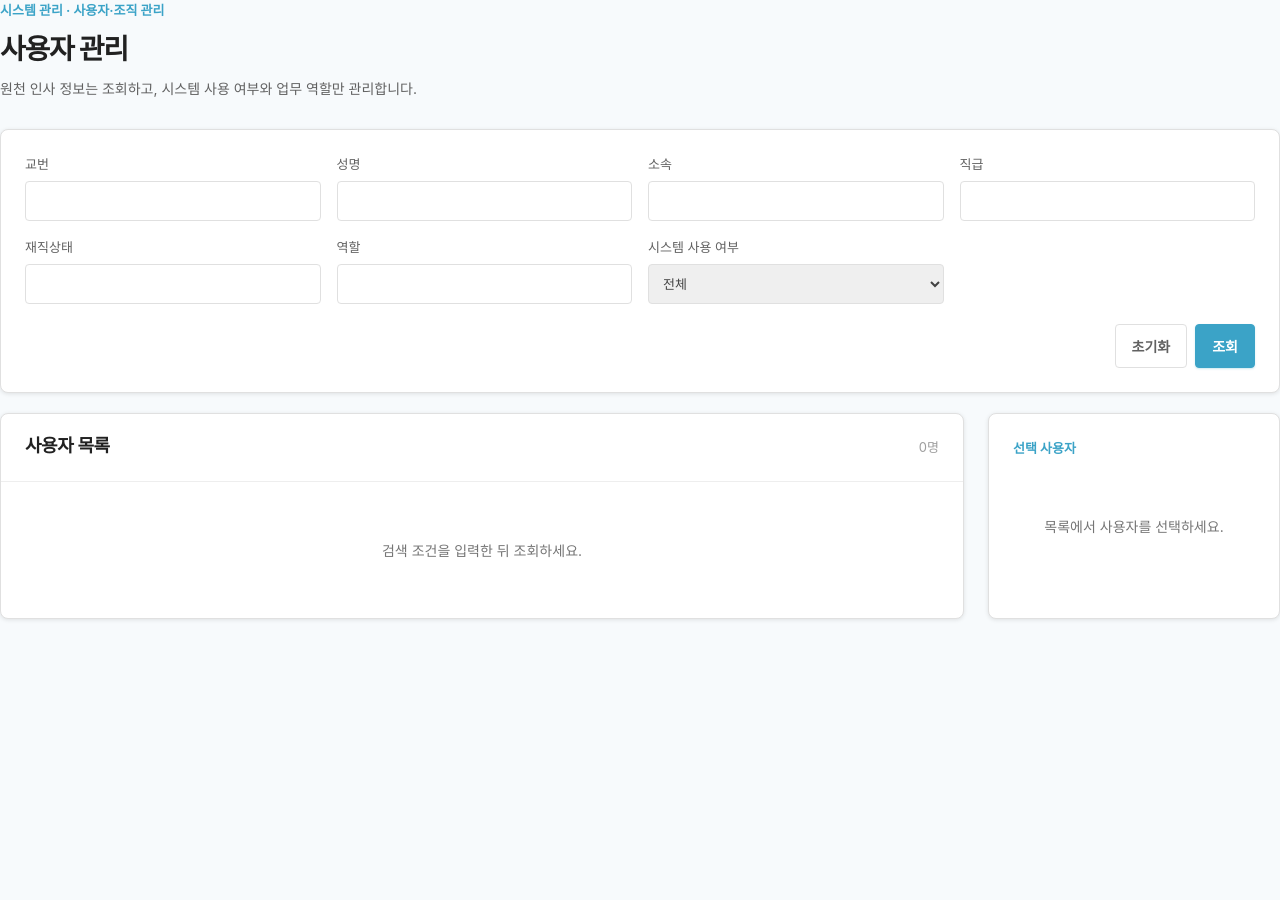
Test: UserManagementPage › searches, displays readonly KORUS fields, and saves only local system settings
Step 1. Type "20240001" into the field labelled "교번" → x=173, y=201, box [25,181,320,221]
Step 2. Click the button "조회" → x=1225, y=346, box [1195,324,1255,368]
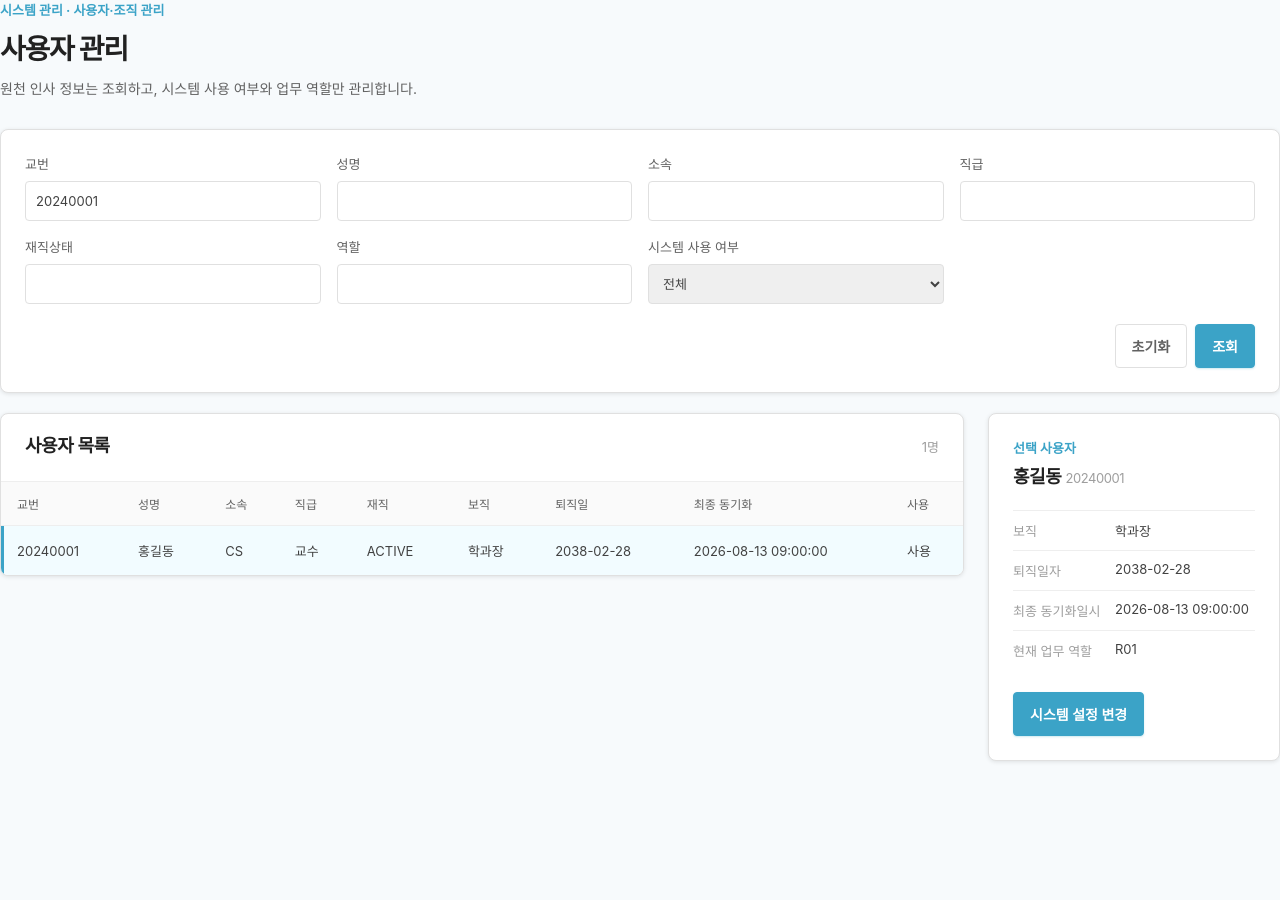
Check: the text "홍길동" is shown, box [122,526,209,575]
Step 3. Click the button "시스템 설정 변경" → x=1079, y=714, box [1013,692,1144,736]
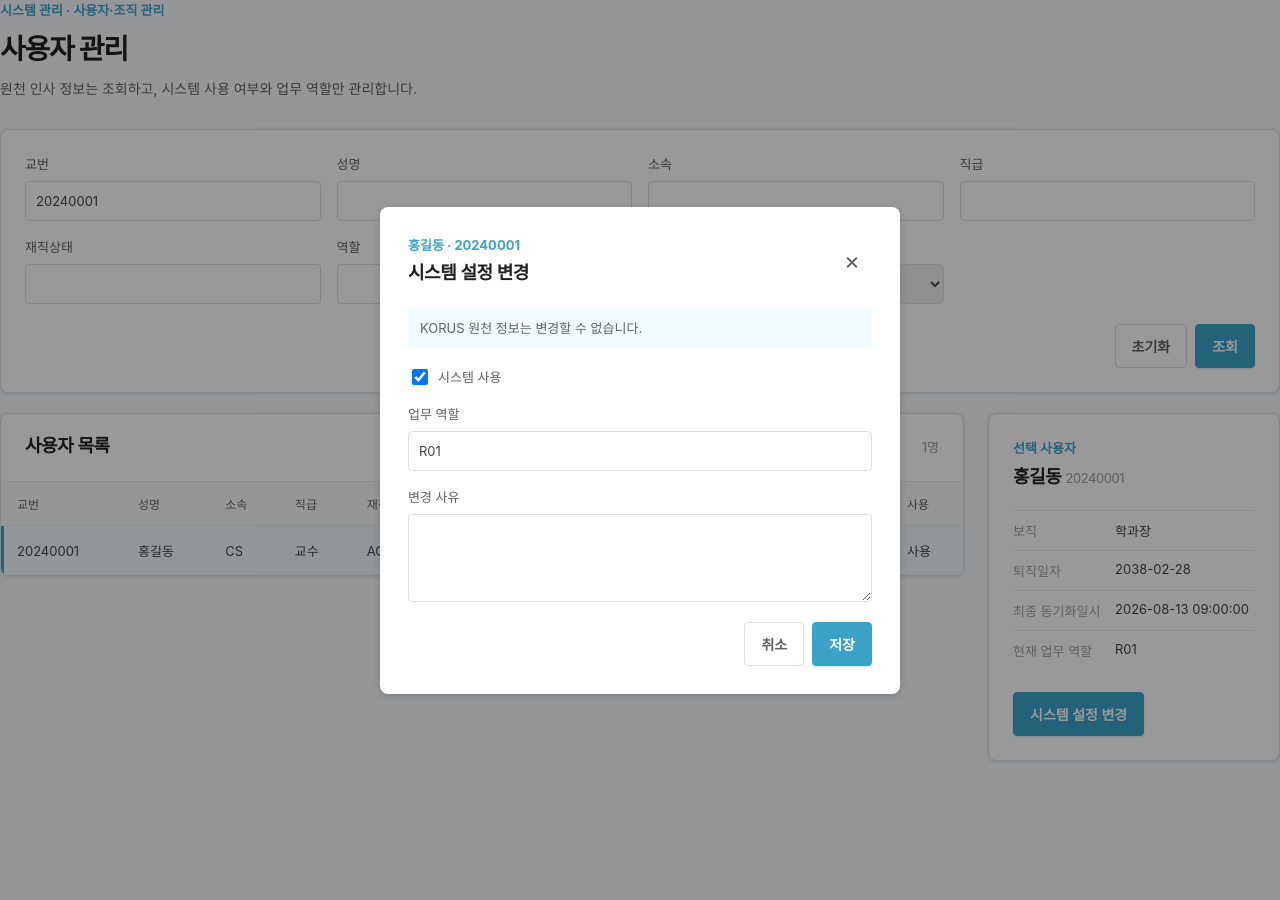
Check: the text "KORUS 원천 정보는 변경할 수 없습니다." is shown, box [408,306,872,348]
Step 4. Click the checkbox labelled "시스템 사용" → x=420, y=376, box [412,368,428,384]
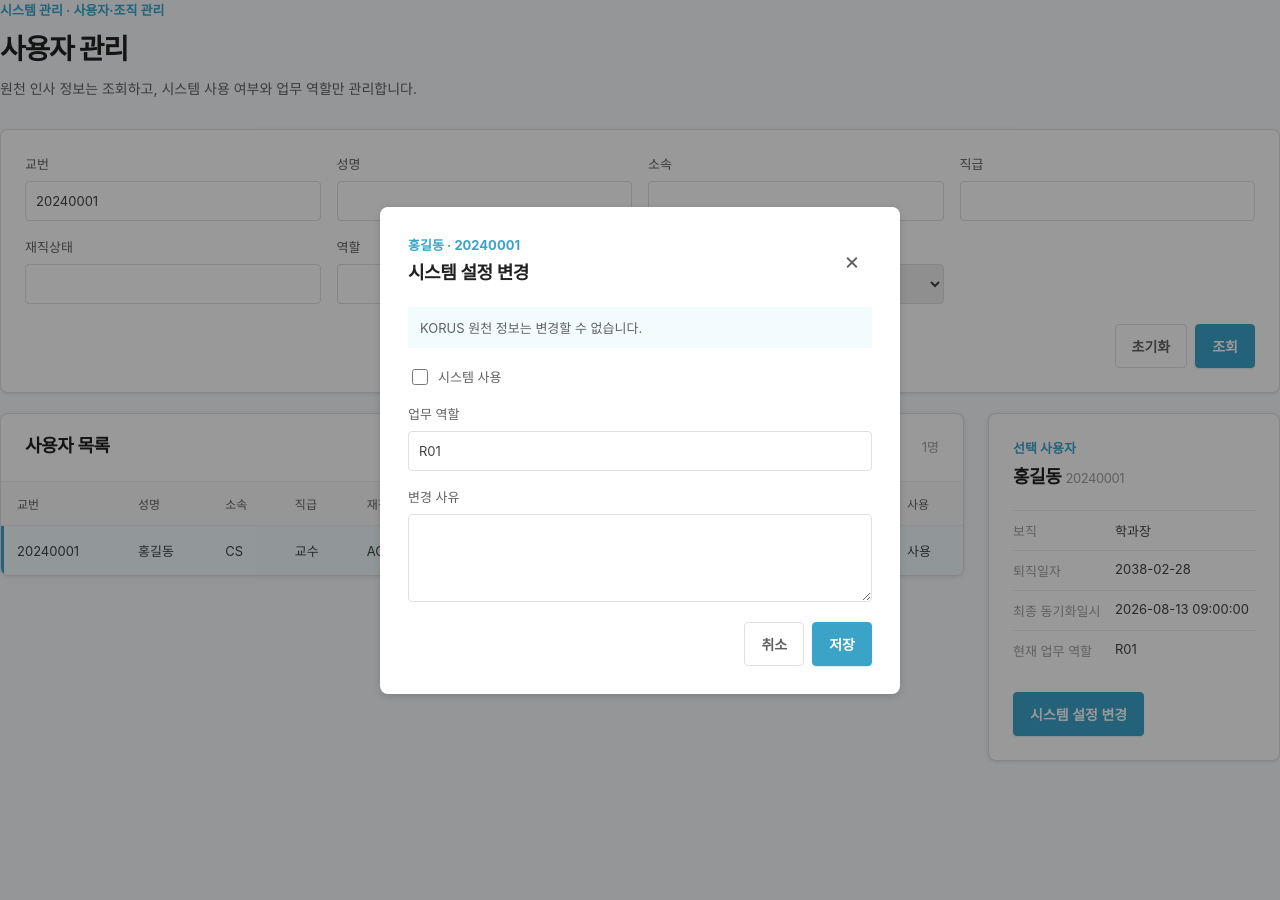
Step 5. Replace the text in the field labelled "업무 역할" with "R09" → x=640, y=450, box [408,430,872,470]
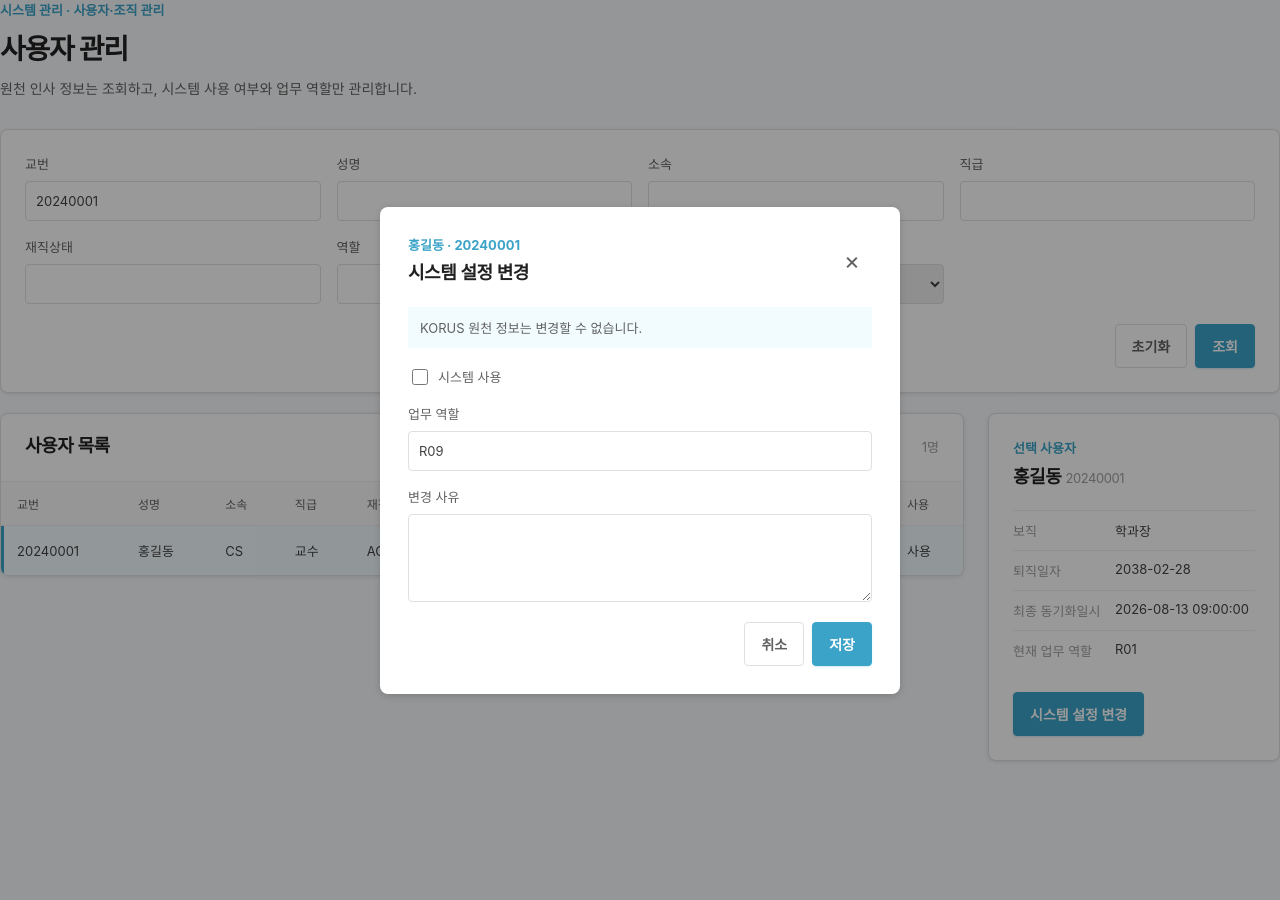
Step 6. Type "업무 전환" into the text box labelled "변경 사유" → x=640, y=558, box [408,514,872,602]
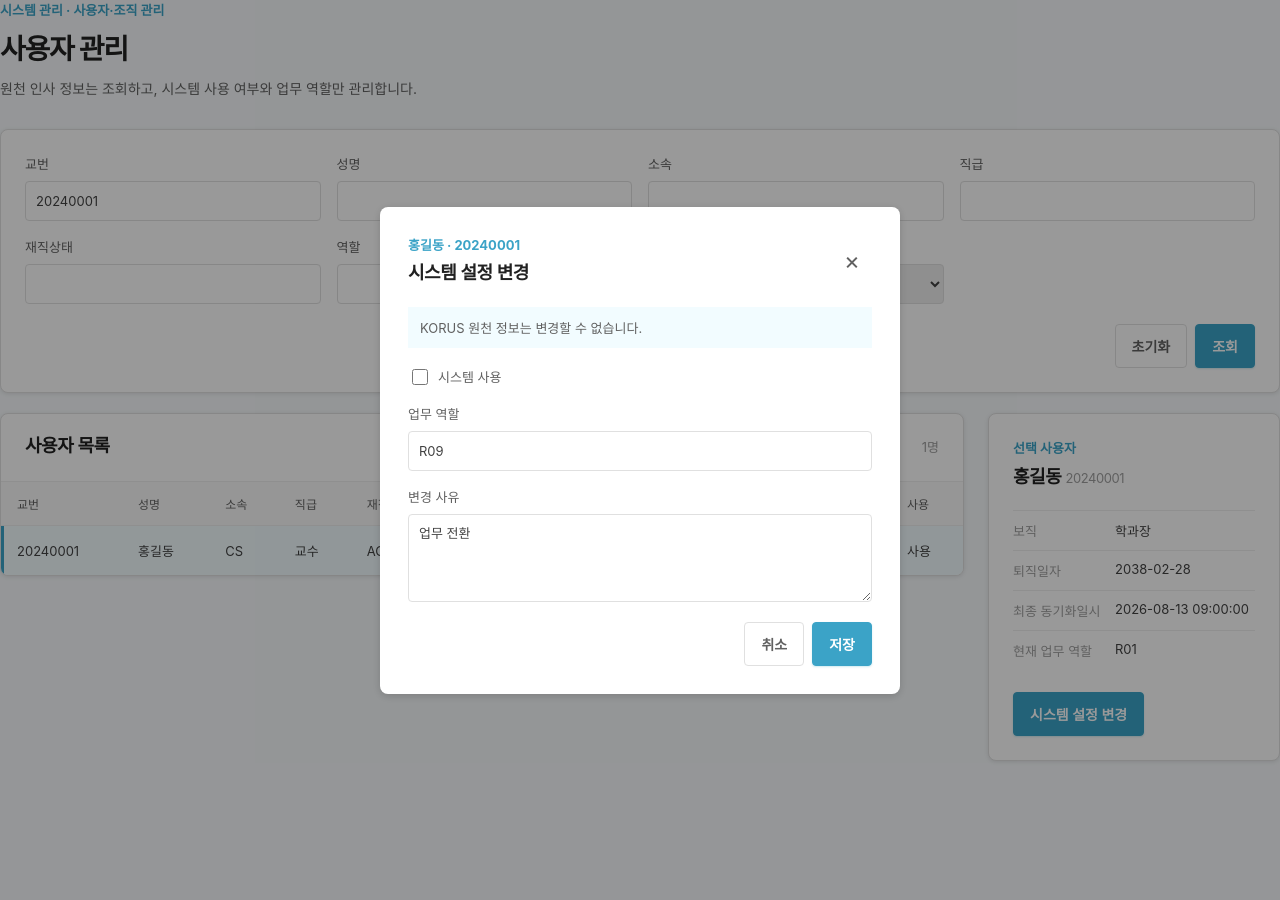
Step 7. Click the button "저장" → x=842, y=644, box [812,622,872,666]
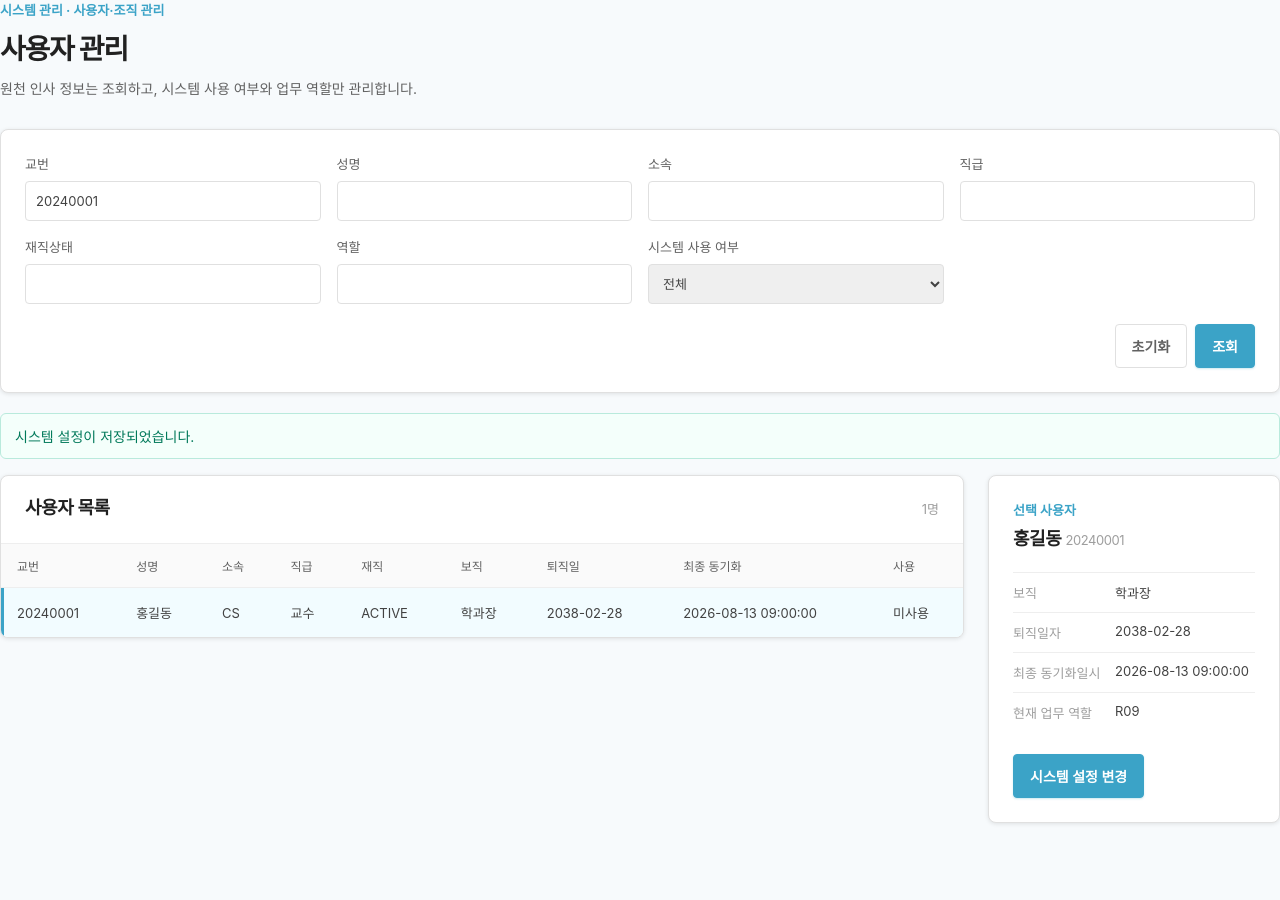
Check: the text "시스템 설정이 저장되었습니다." is shown, box [0,413,1279,459]
